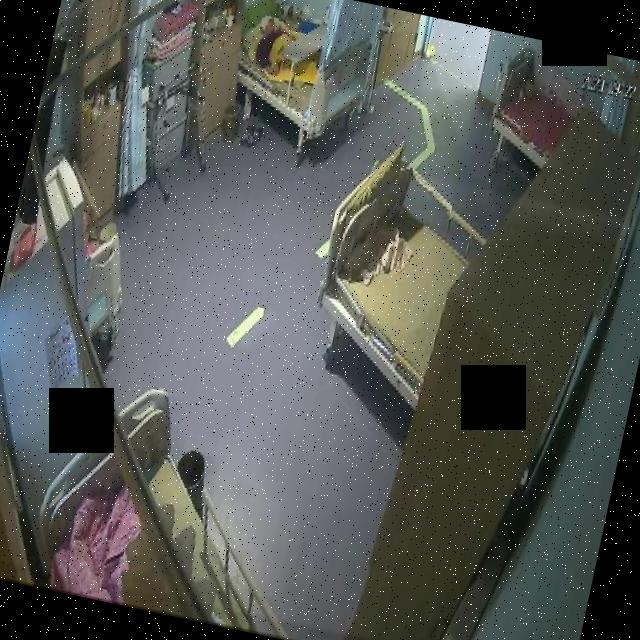bed: (22, 368, 306, 634), (302, 152, 490, 404), (229, 0, 381, 142), (482, 42, 586, 173)
lie: (248, 11, 330, 83)
patient: (248, 11, 300, 78)
